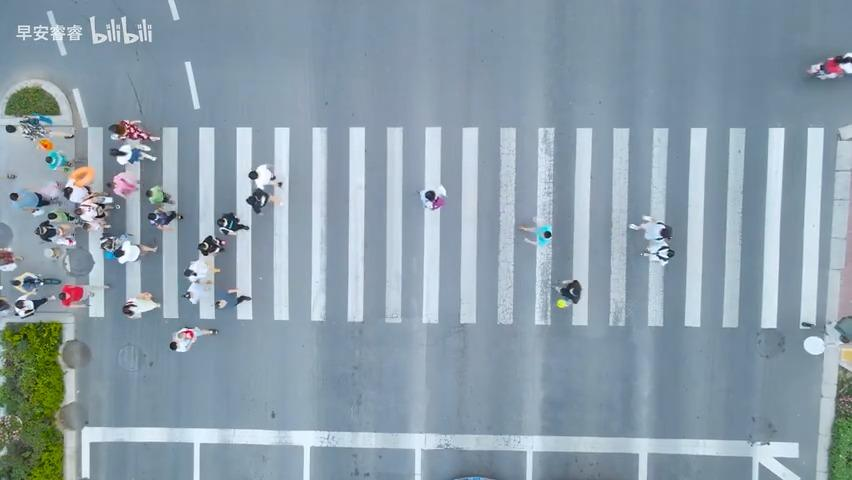Civilian: (4, 114, 71, 147), (628, 214, 674, 262), (55, 277, 104, 313), (7, 261, 46, 300), (7, 184, 55, 215), (247, 163, 282, 205), (169, 325, 219, 352), (232, 169, 270, 204), (806, 51, 851, 80), (143, 180, 192, 205), (109, 142, 157, 166), (99, 176, 145, 201), (176, 257, 215, 286), (108, 119, 159, 141), (121, 291, 160, 319), (32, 216, 65, 249), (10, 293, 45, 324), (41, 146, 76, 176), (73, 200, 119, 222), (143, 209, 181, 235), (62, 180, 97, 206), (518, 220, 552, 246), (551, 279, 582, 306), (416, 184, 447, 210), (216, 211, 249, 235), (111, 246, 147, 264), (197, 234, 226, 256)
